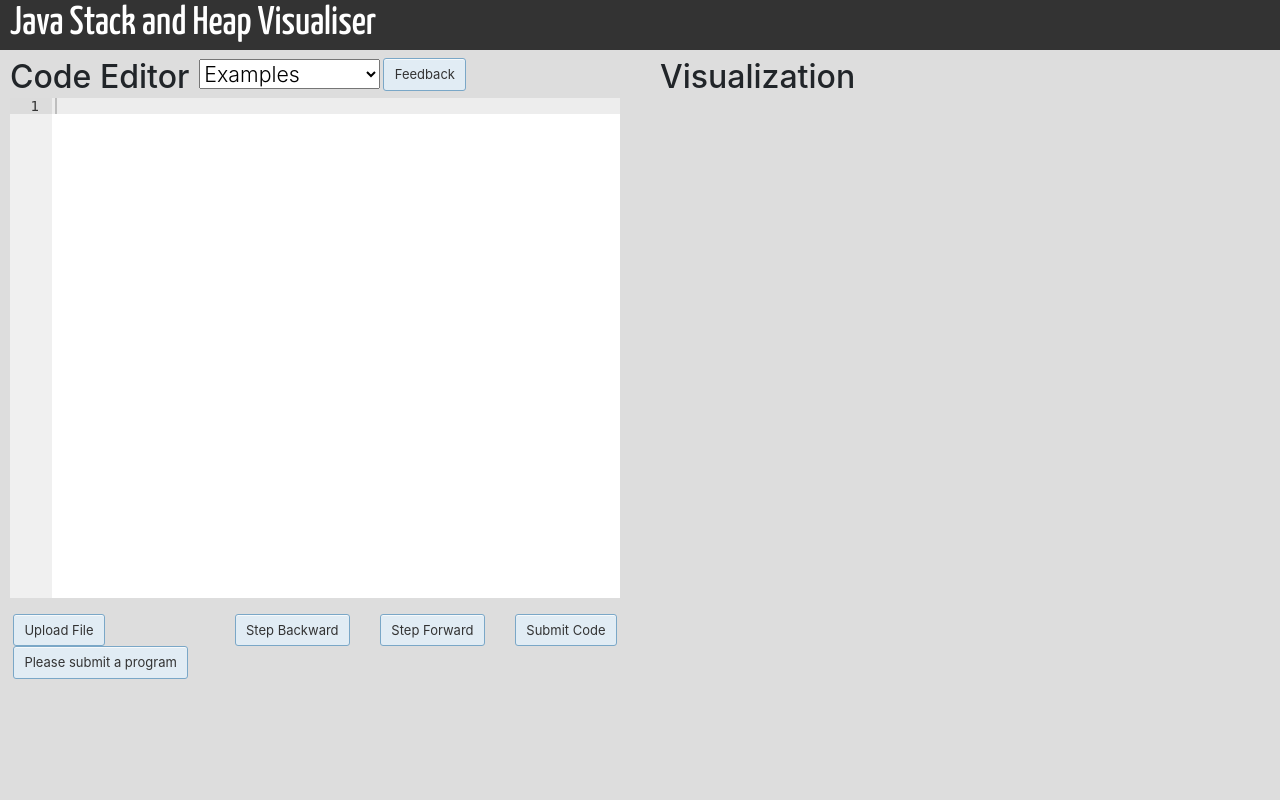
Test: shows API failures and allows another submission
Click the button "Submit Code" at (566, 630), box [515,614,617,646]
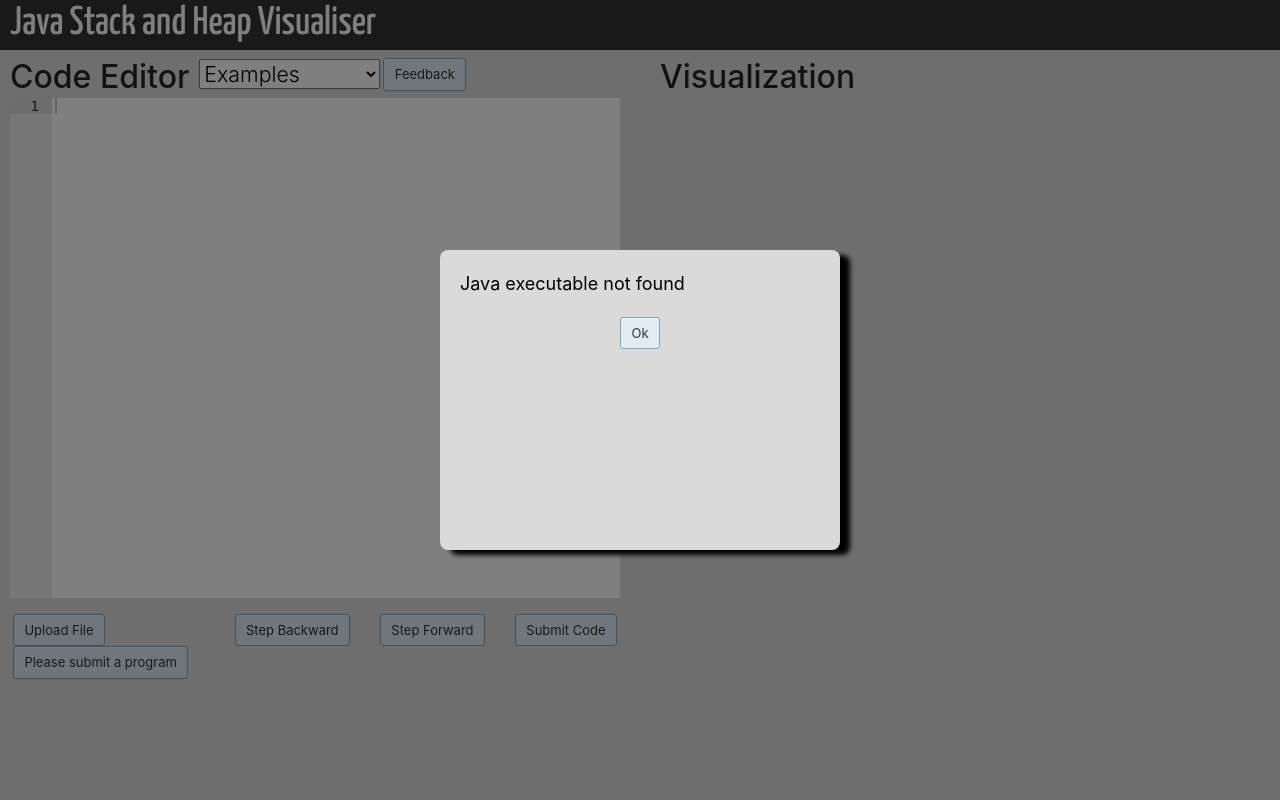
Check: the text "Java executable not found" is shown, box [460,273,685,294]
